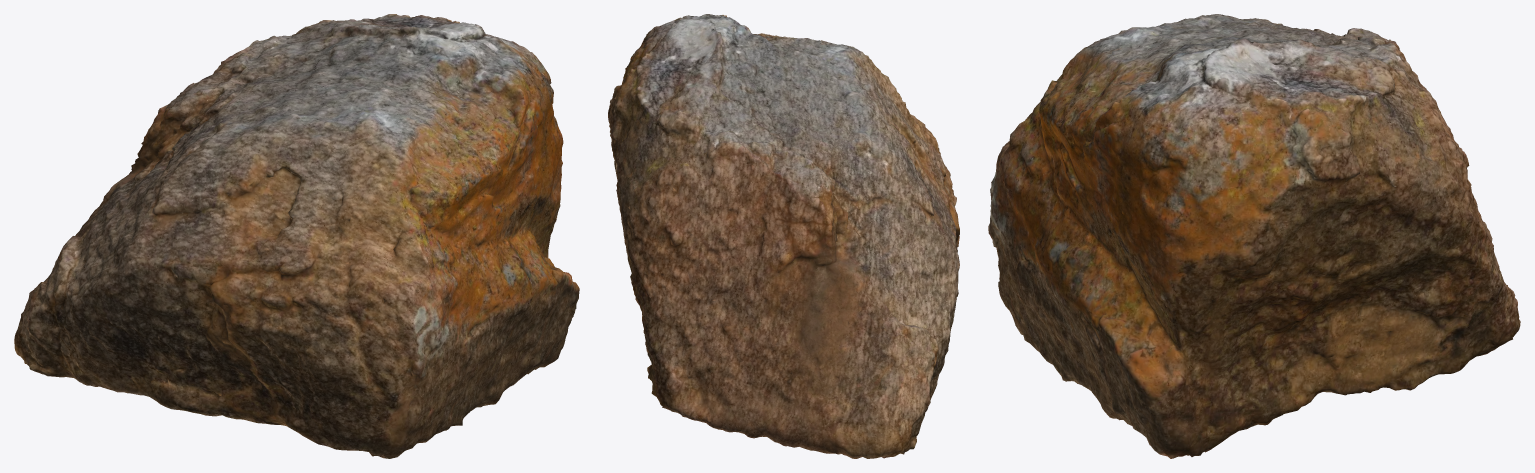
Rendered from namaqualand_boulder_04.glb.
3 renders of one model, left to right at view 1: azimuth 30°, elevation 25°; view 2: azimuth 150°, elevation 25°; view 3: azimuth 270°, elevation 25°, orthographic. The views are drawn at different scales.
Parts seen in each view (by area): view 1: boulder_04; view 2: boulder_04; view 3: boulder_04.
Boxes of the visible parts, x1=… form: boulder_04: x1=14, y1=14, x2=579, y2=458; boulder_04: x1=608, y1=14, x2=959, y2=458; boulder_04: x1=988, y1=14, x2=1520, y2=458.
Bounding box in the file's own units: 2.52 × 1.9 × 2.5.
Materials: 1 (1 with a texture image).
